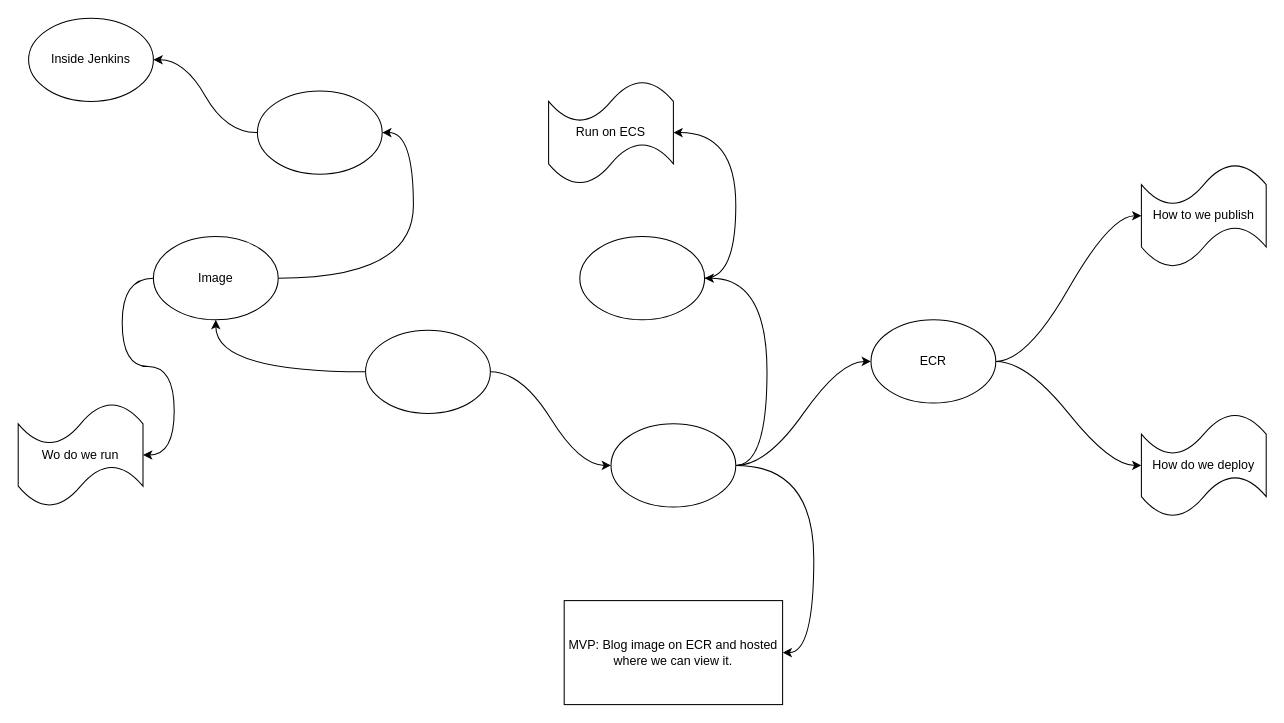
The diagram is 1284 pixels wide and 723 high, and some of its shapes have lost their labels. Each missing label, with the centre of its shape:
Deploy: the point at 642,278
Made by docker Compose: the point at 319,132
Registry: the point at 673,465
Step 1: Containerise: the point at 427,371
